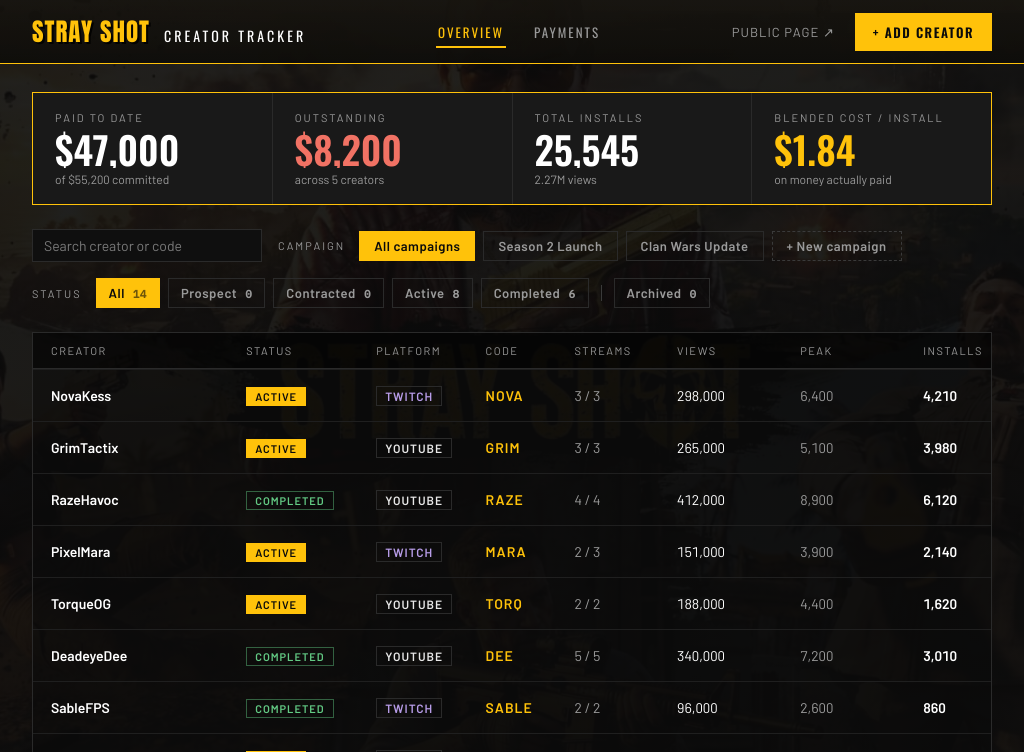
it: reversing a payment › confirms what it is about to do before doing it
Click the button "NovaKess".
click(81, 396)  # box x1=51 y1=387 x2=111 y2=404
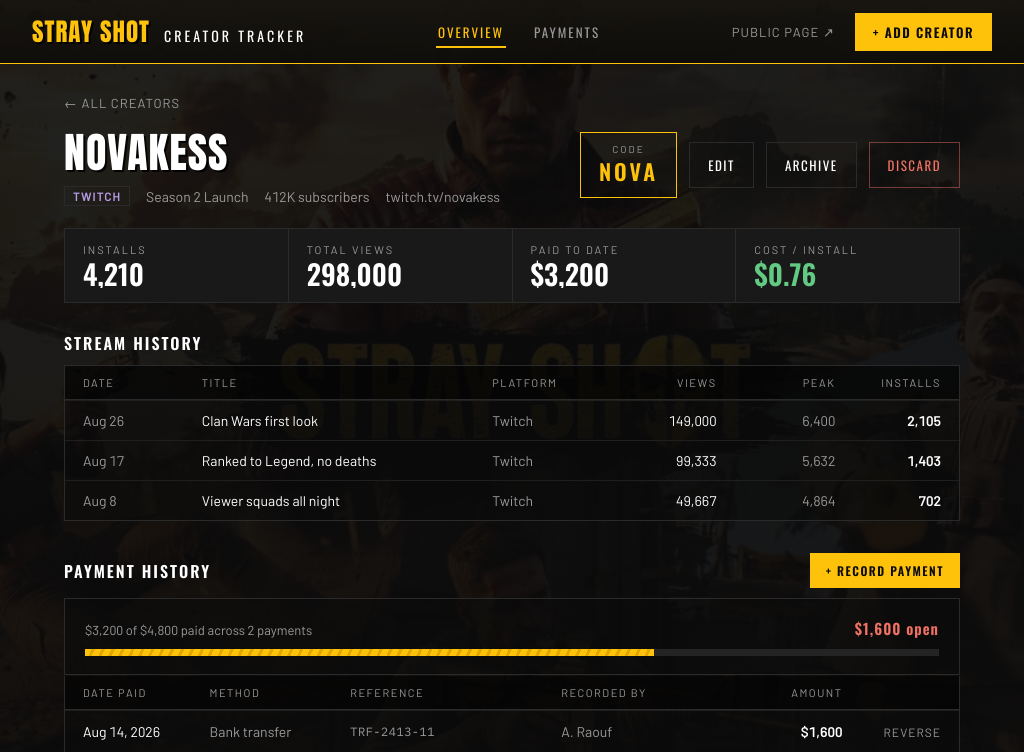
Click the button named "Reverse payment of".
click(912, 732)  # box x1=884 y1=725 x2=941 y2=739
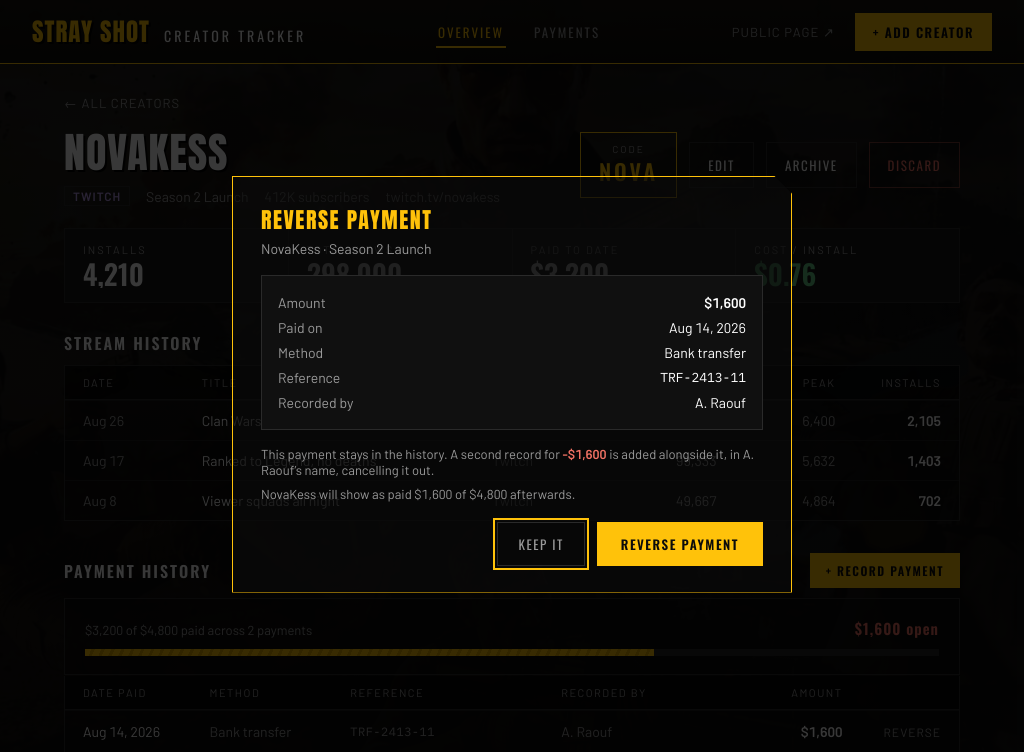
Now the text "stays in the history" is shown, box x1=261 y1=446 x2=560 y2=462
Now the text "-$1,600" is shown, box x1=562 y1=446 x2=606 y2=462
